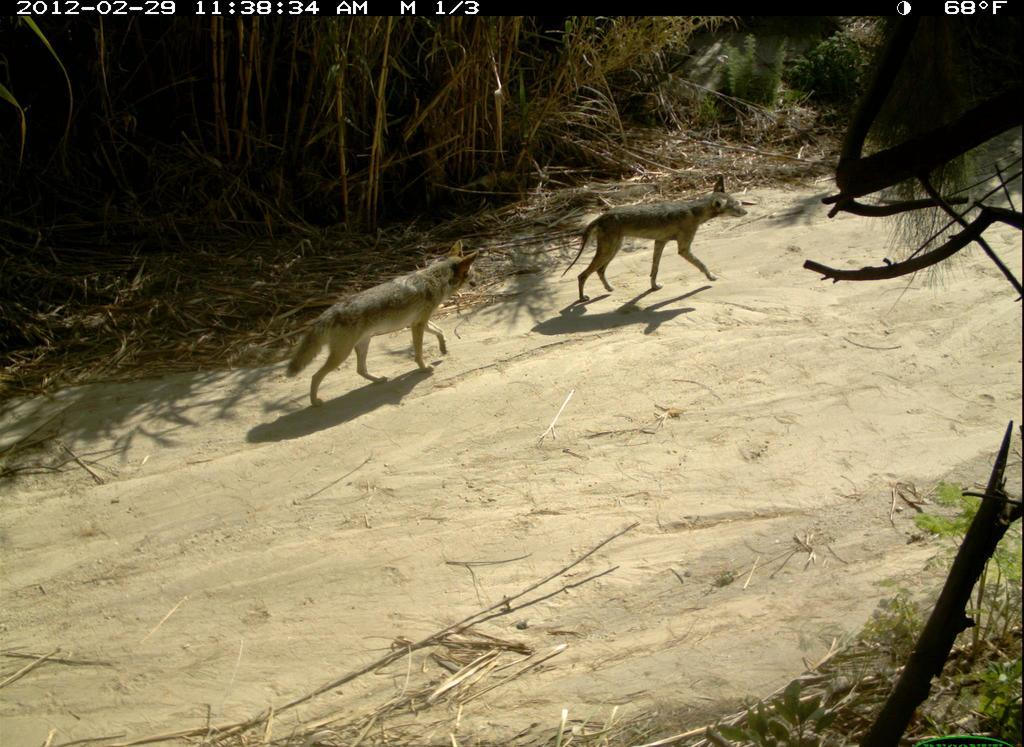coyote: (282, 237, 489, 420), (562, 173, 753, 313)
